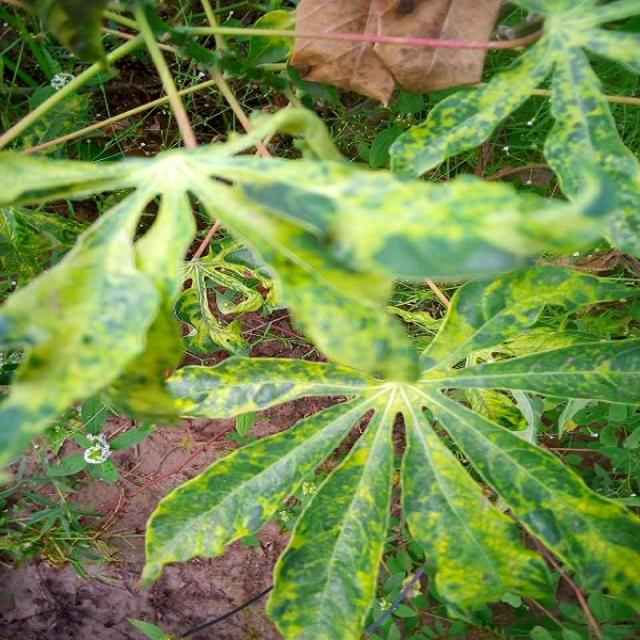cassava leaf: (1, 1, 638, 637), (141, 257, 638, 638)
